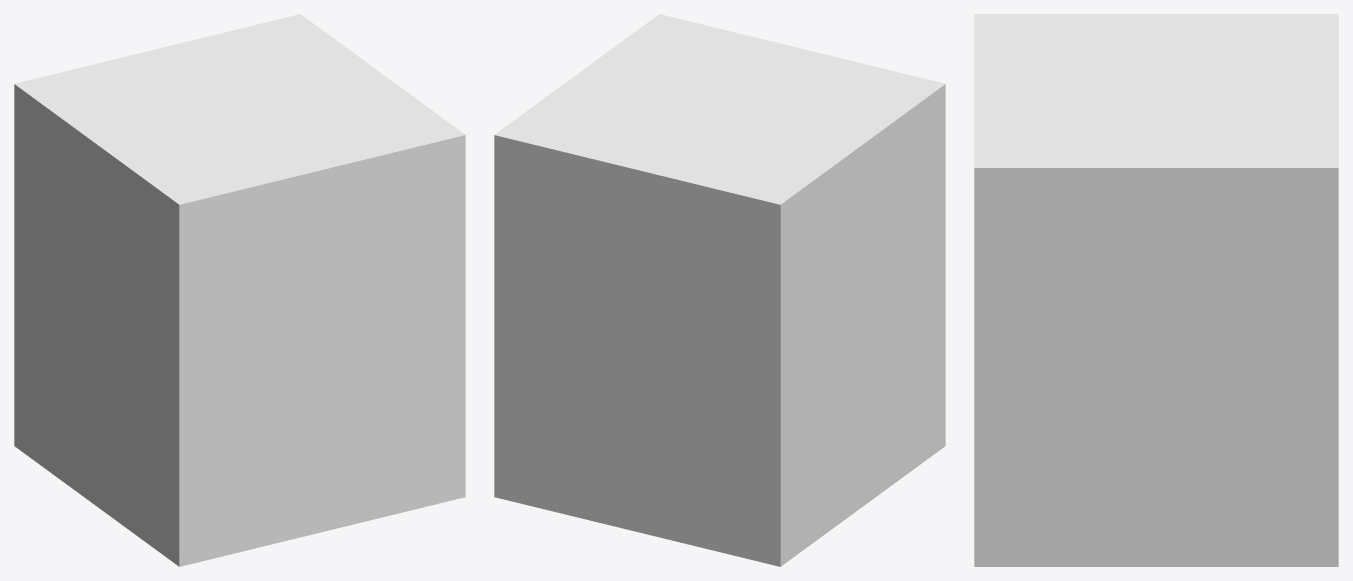
File: Wall.fbx
3 views of the same model, side by side, from view 1: azimuth 30°, elevation 25°; view 2: azimuth 150°, elevation 25°; view 3: azimuth 270°, elevation 25° (orthographic). The views are drawn at different scales.
Parts seen in each view (by area): view 1: Wall; view 2: Wall; view 3: Wall.
Part boxes in pixels (box(x1,y1,x2,y2)): Wall: box(14, 14, 465, 566); Wall: box(494, 14, 945, 566); Wall: box(974, 14, 1338, 566).
Size of the model in its own units: 0.5204 by 0.6289 by 0.5204.
